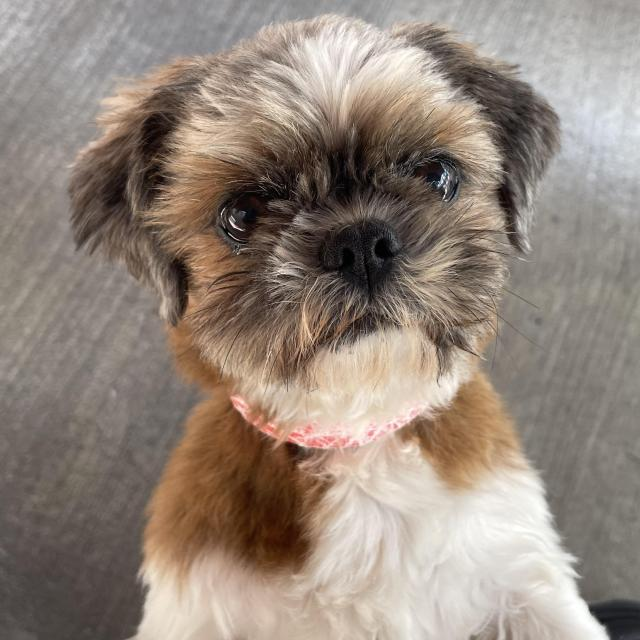shih_tzu_dog: (62, 9, 577, 460)
